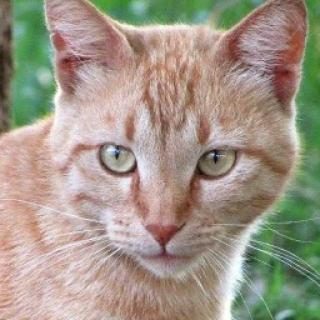cat: (41, 0, 300, 278)
nose: (132, 179, 198, 252)
